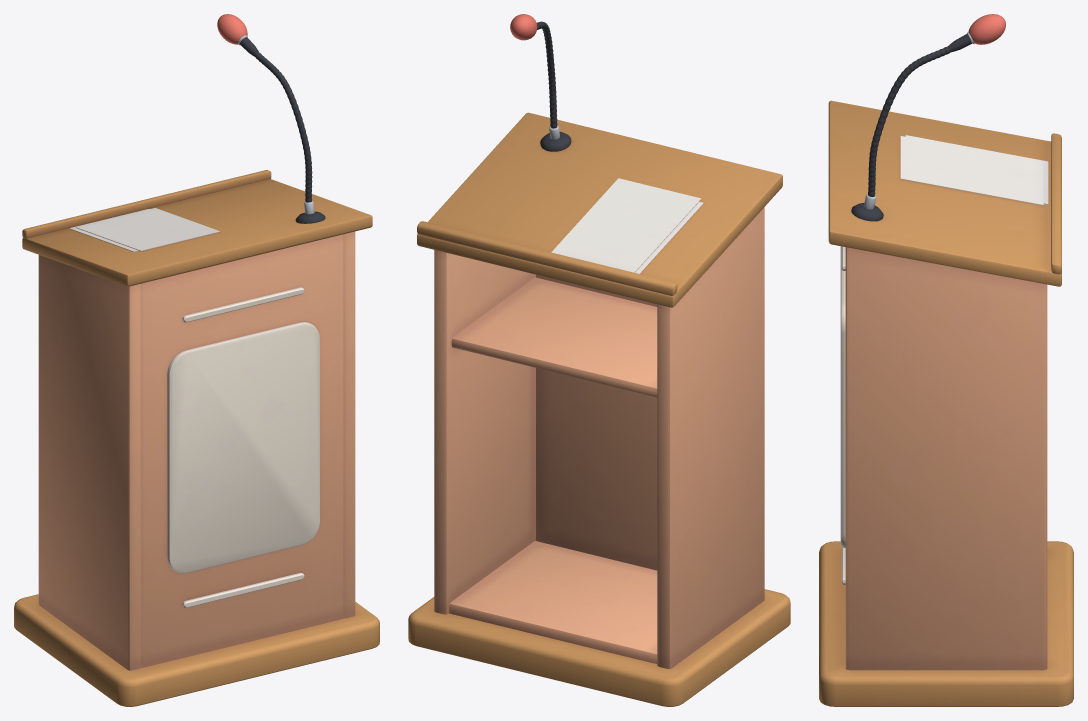
The model's file is podium.glb.
The picture shows the model from 3 angles, left to right: view 1: azimuth 30°, elevation 25°; view 2: azimuth 150°, elevation 25°; view 3: azimuth 270°, elevation 25°; orthographic projection. The views are drawn at different scales.
Visible parts, largest first — view 1: podium_body; view 2: podium_body; view 3: podium_body.
Part boxes in pixels (x1,y1,x2,y2): podium_body: [14, 14, 379, 706]; podium_body: [408, 14, 790, 706]; podium_body: [819, 14, 1073, 706].
Bounding box in the file's own units: 0.69 × 1.49 × 0.53.
Materials: 1 (1 with a texture image).
